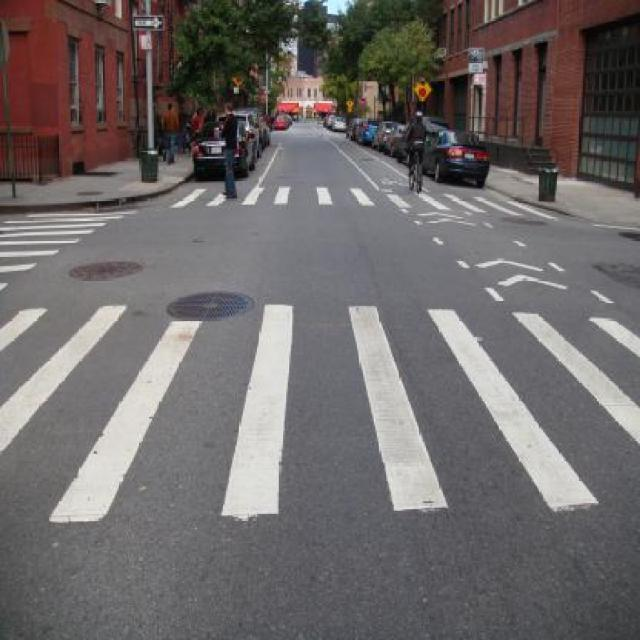Pedestrian crosswalk: (2, 301, 640, 556), (0, 199, 126, 319), (117, 189, 545, 220), (195, 470, 198, 476)
